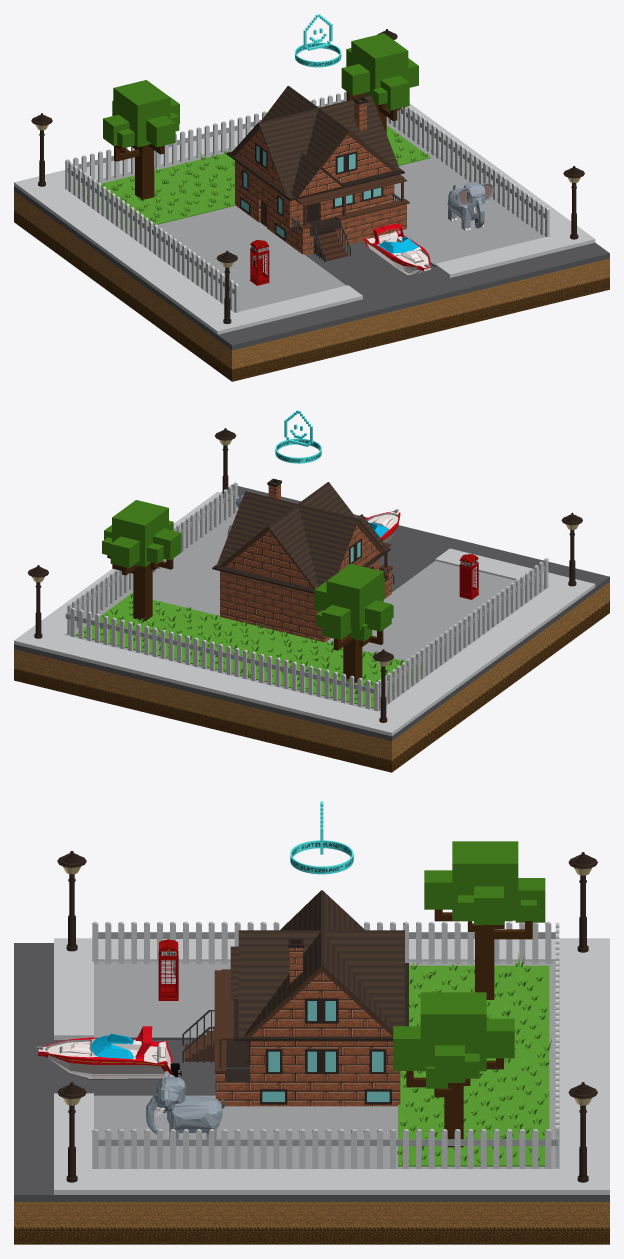
3 views of the same model, one above another, from view 1: azimuth 30°, elevation 25°; view 2: azimuth 150°, elevation 25°; view 3: azimuth 270°, elevation 25° (orthographic). The views are drawn at different scales.
Parts seen in each view (by area): view 1: Cube.004, Cube.469, VEHICLES_BOAT, ANIMAL_ELEFANTE, TYPE_PREMIUM, OBJRANDOM_PHONEBOOTH; view 2: Cube.004, Cube.469, TYPE_PREMIUM, OBJRANDOM_PHONEBOOTH, VEHICLES_BOAT; view 3: Cube.004, Cube.469, VEHICLES_BOAT, ANIMAL_ELEFANTE, TYPE_PREMIUM, OBJRANDOM_PHONEBOOTH.
Part boxes in pixels (box(x1,y1,x2,y2)): Cube.004: box(14, 29, 609, 381); Cube.469: box(226, 86, 409, 262); VEHICLES_BOAT: box(364, 223, 430, 275); ANIMAL_ELEFANTE: box(447, 182, 494, 231); TYPE_PREMIUM: box(295, 14, 341, 67); OBJRANDOM_PHONEBOOTH: box(249, 240, 269, 285); Cube.004: box(14, 428, 609, 772); Cube.469: box(212, 478, 394, 642); TYPE_PREMIUM: box(275, 410, 321, 463); OBJRANDOM_PHONEBOOTH: box(459, 554, 479, 599); VEHICLES_BOAT: box(366, 509, 400, 542); Cube.004: box(14, 841, 609, 1244); Cube.469: box(182, 890, 408, 1106); VEHICLES_BOAT: box(36, 1026, 181, 1079); ANIMAL_ELEFANTE: box(146, 1071, 225, 1139); TYPE_PREMIUM: box(290, 801, 353, 874); OBJRANDOM_PHONEBOOTH: box(158, 939, 178, 1000).
Bounding box in the file's own units: 4000 × 2444 × 4000.
41 materials, 5 textured.
